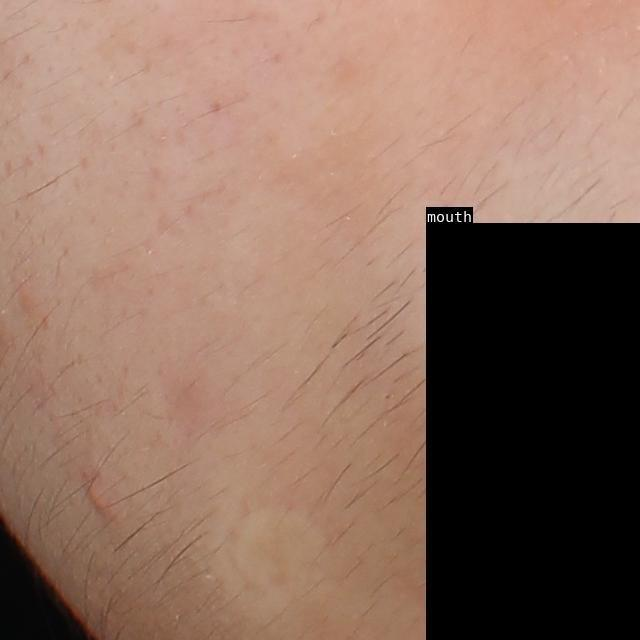papule: (79, 478, 117, 518)
